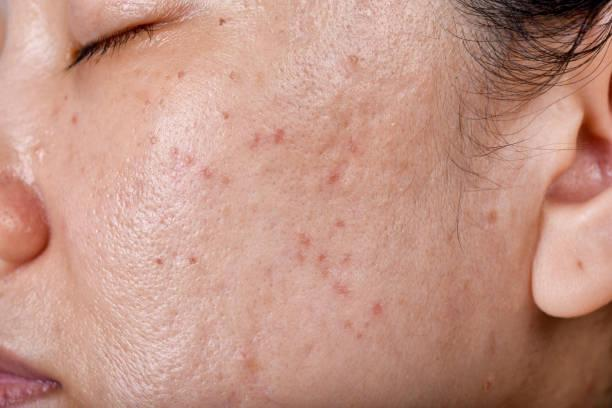Dry-Skin: (221, 138, 356, 408), (123, 202, 218, 367), (292, 42, 420, 152), (379, 200, 480, 338), (103, 87, 260, 154)
